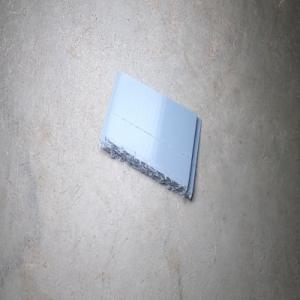PlasticPart: (97, 70, 201, 200)
